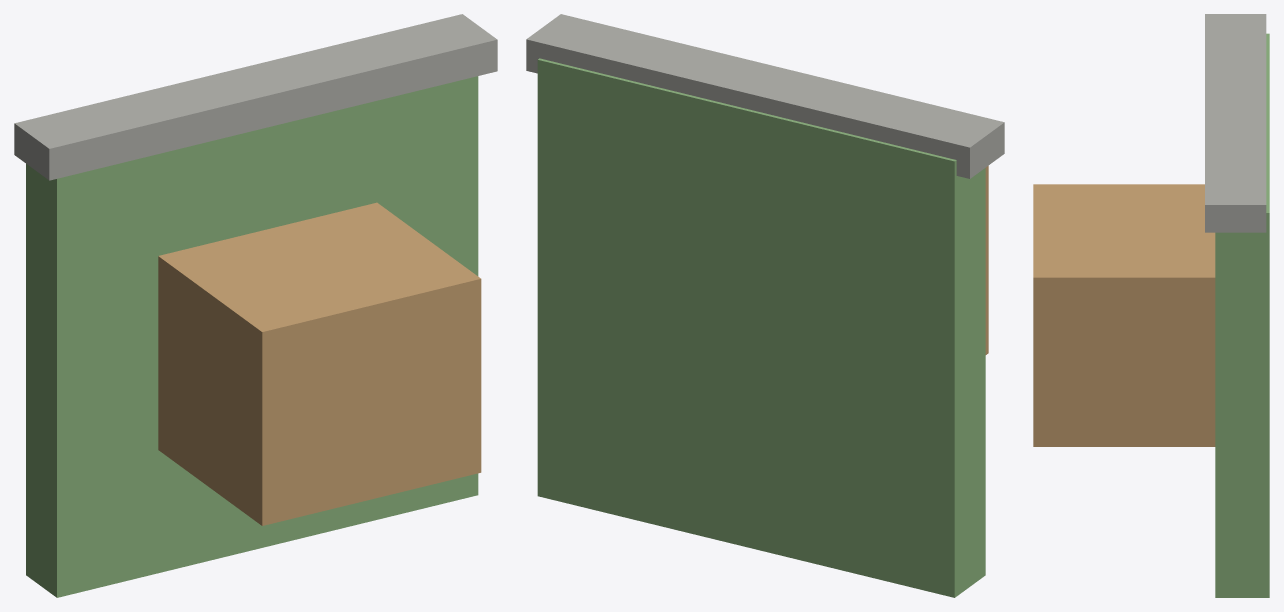
The model's file is 29_VatLieu.glb.
3 renders of one model, left to right at view 1: azimuth 30°, elevation 25°; view 2: azimuth 150°, elevation 25°; view 3: azimuth 270°, elevation 25°, orthographic. The views are drawn at different scales.
Visible parts, largest first — view 1: base, crate, edge; view 2: base, edge, crate; view 3: crate, base, edge.
Boxes of the visible parts, <box> form: base: <box>26,76,478,597</box>; crate: <box>158,202,481,525</box>; edge: <box>14,14,497,180</box>; base: <box>537,58,985,597</box>; edge: <box>526,14,1004,178</box>; crate: <box>985,165,988,354</box>; crate: <box>1033,184,1215,446</box>; base: <box>1215,33,1269,597</box>; edge: <box>1205,14,1266,232</box>.
Size of the model in its own units: 1.33 by 1.3 by 0.695.
